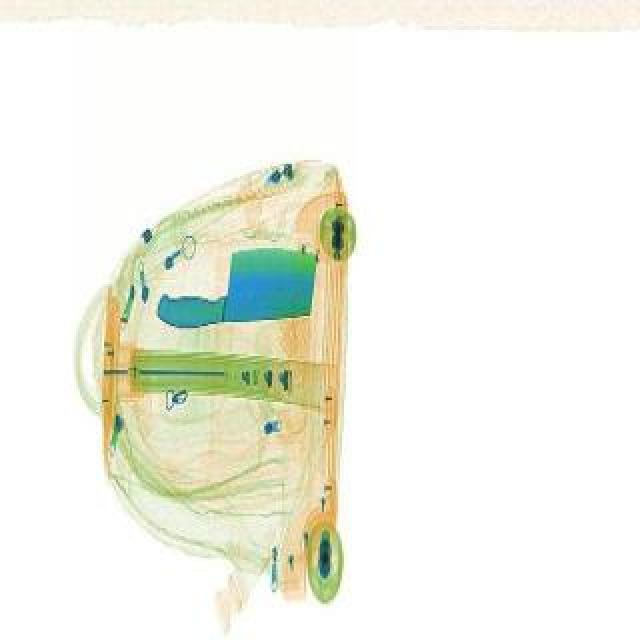knife: (158, 256, 318, 336)
